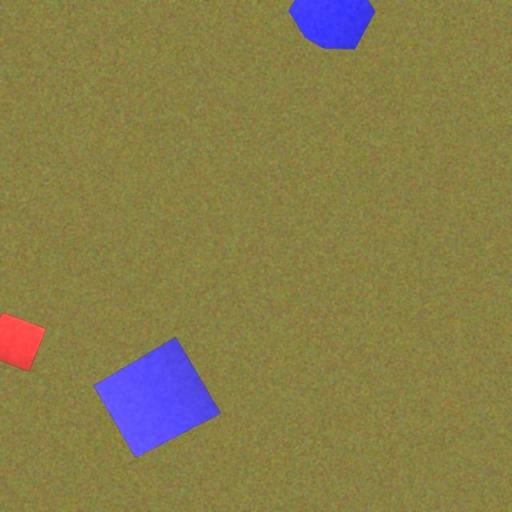BLUE_SQUARE: (92, 337, 222, 458)
RED_SQUARE: (0, 312, 47, 373)
